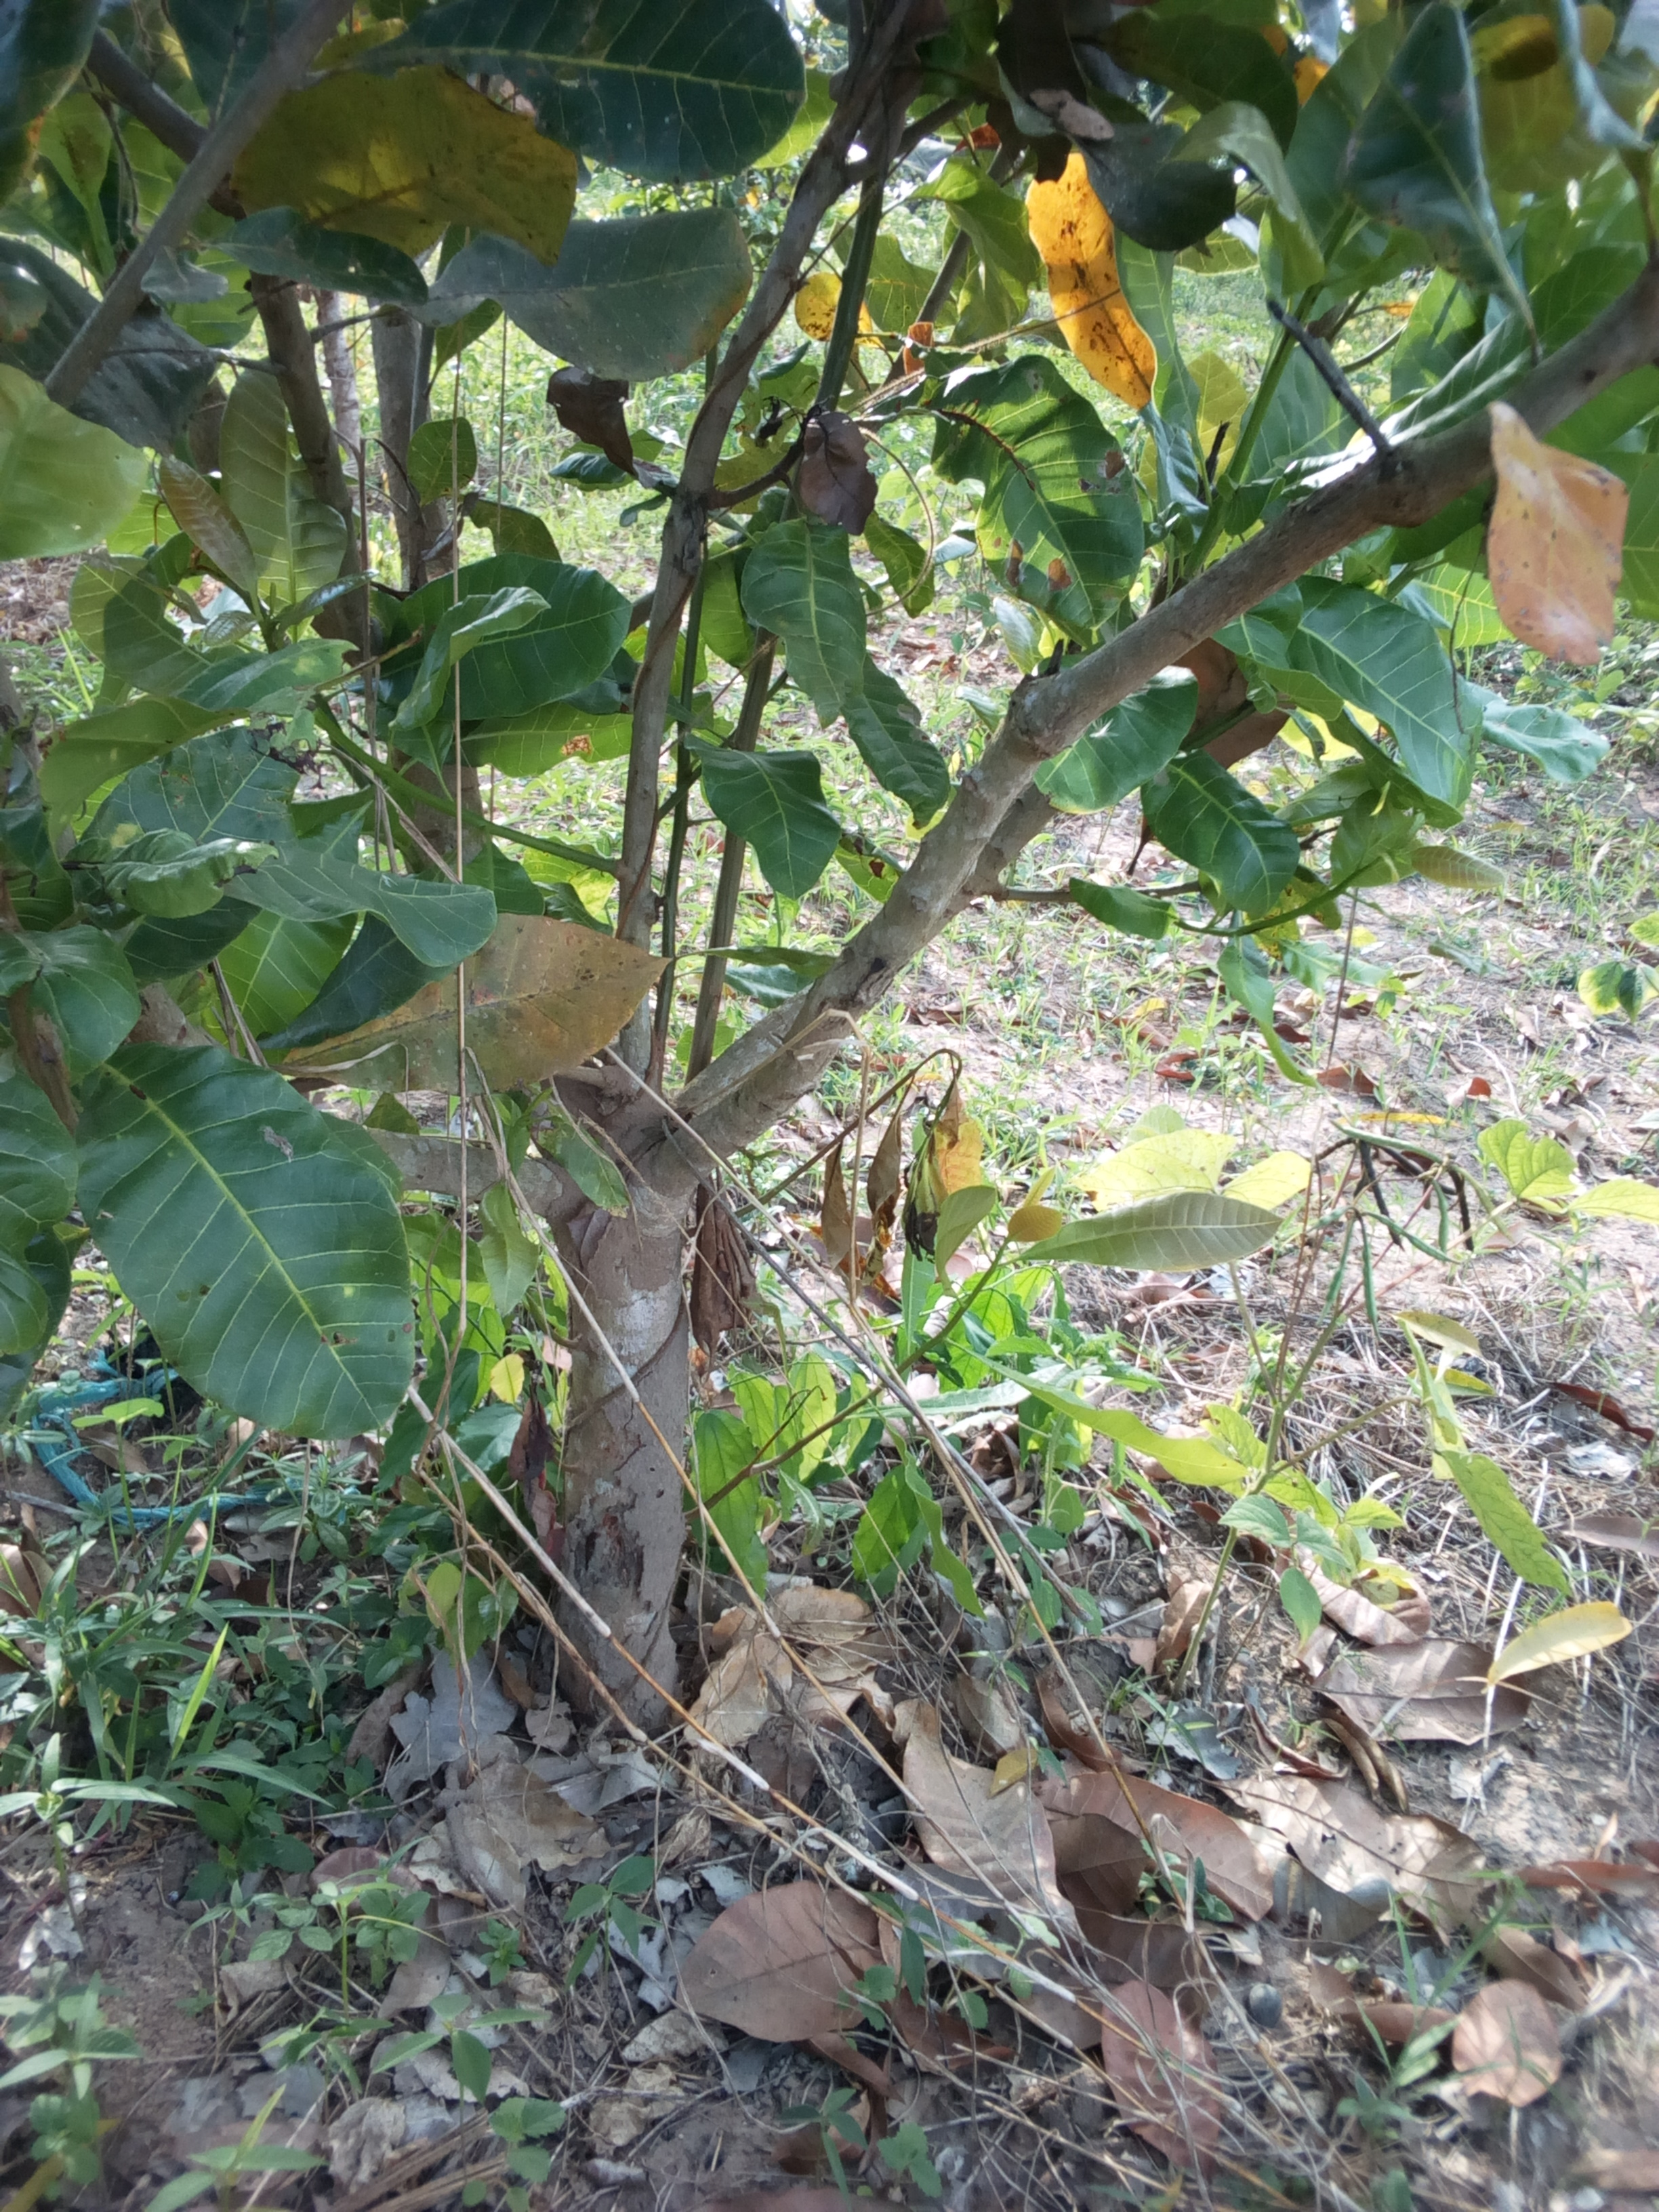Dessèchement des bourgeons: (842, 1059, 979, 1329), (559, 373, 634, 495)
